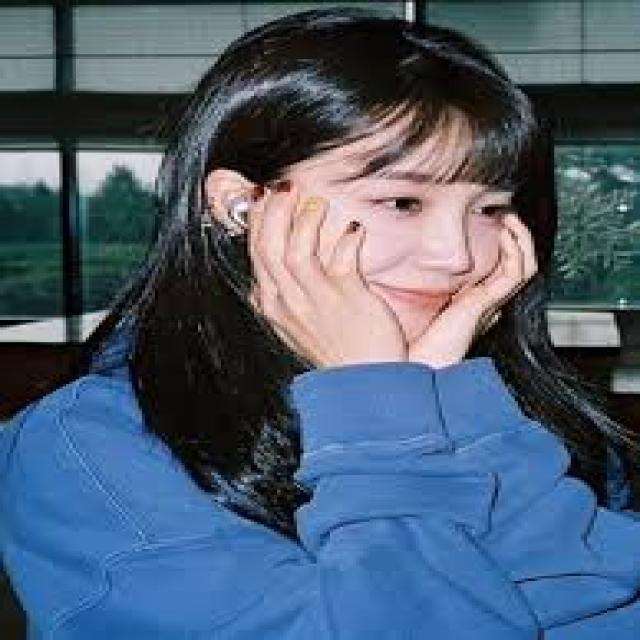earphone: (230, 180, 262, 245)
